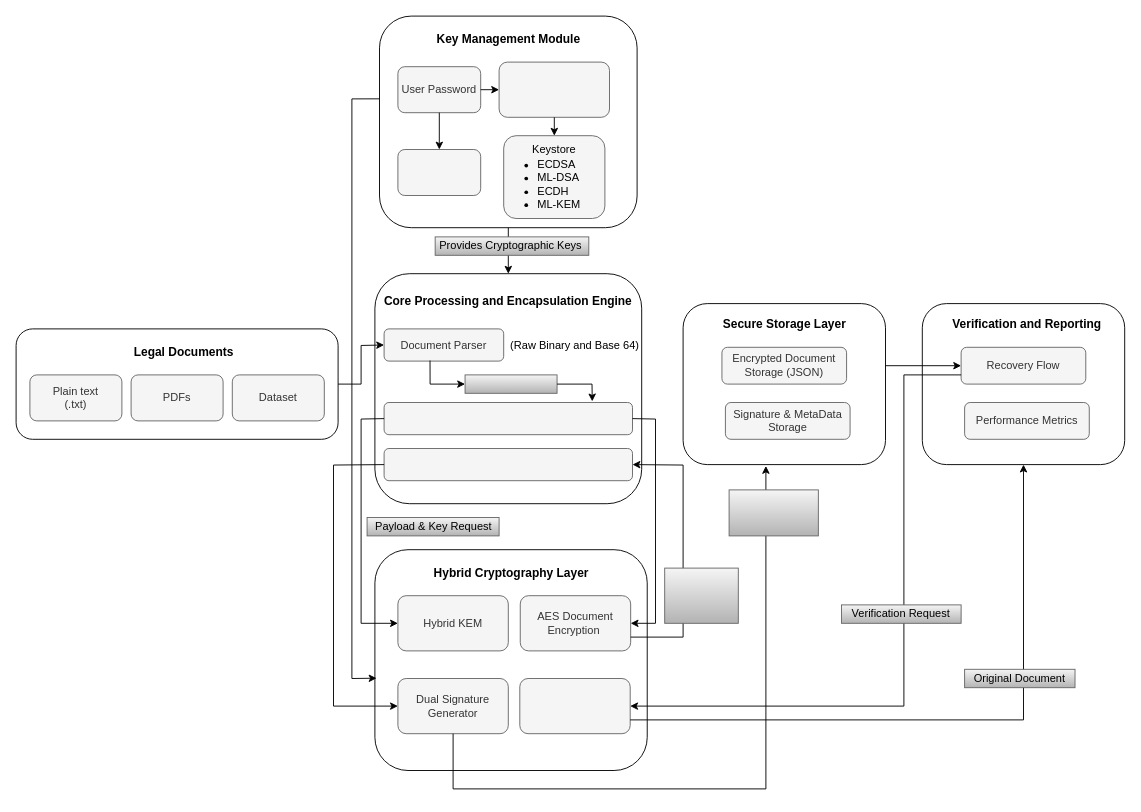
The diagram is 1141 pixels wide and 812 high, and some of its shapes have lost their labels. Here are the shapes that lost their labels. From the top down, the centre of each, then its label:
At point (554, 89): "Encrypted JSON Keystore (AES-256-GCM)".
At point (439, 172): "PBKDF2 Master Key".
At point (510, 383): "Metadata Aggregator".
At point (507, 418): "Encapsulation Orchestrator".
At point (507, 464): "Canonical Package Generator".
At point (773, 512): "Stores Final JSON Package".
At point (701, 595): "Returns Cipher text and Wrapped Keys".
At point (574, 706): "Validation Engine (AND Logic)".
